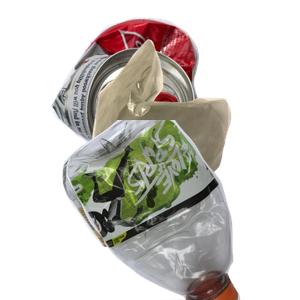glass: (60, 120, 300, 300)
metal: (48, 15, 251, 175)
plastic: (64, 120, 300, 300)
trash: (89, 37, 300, 213)
